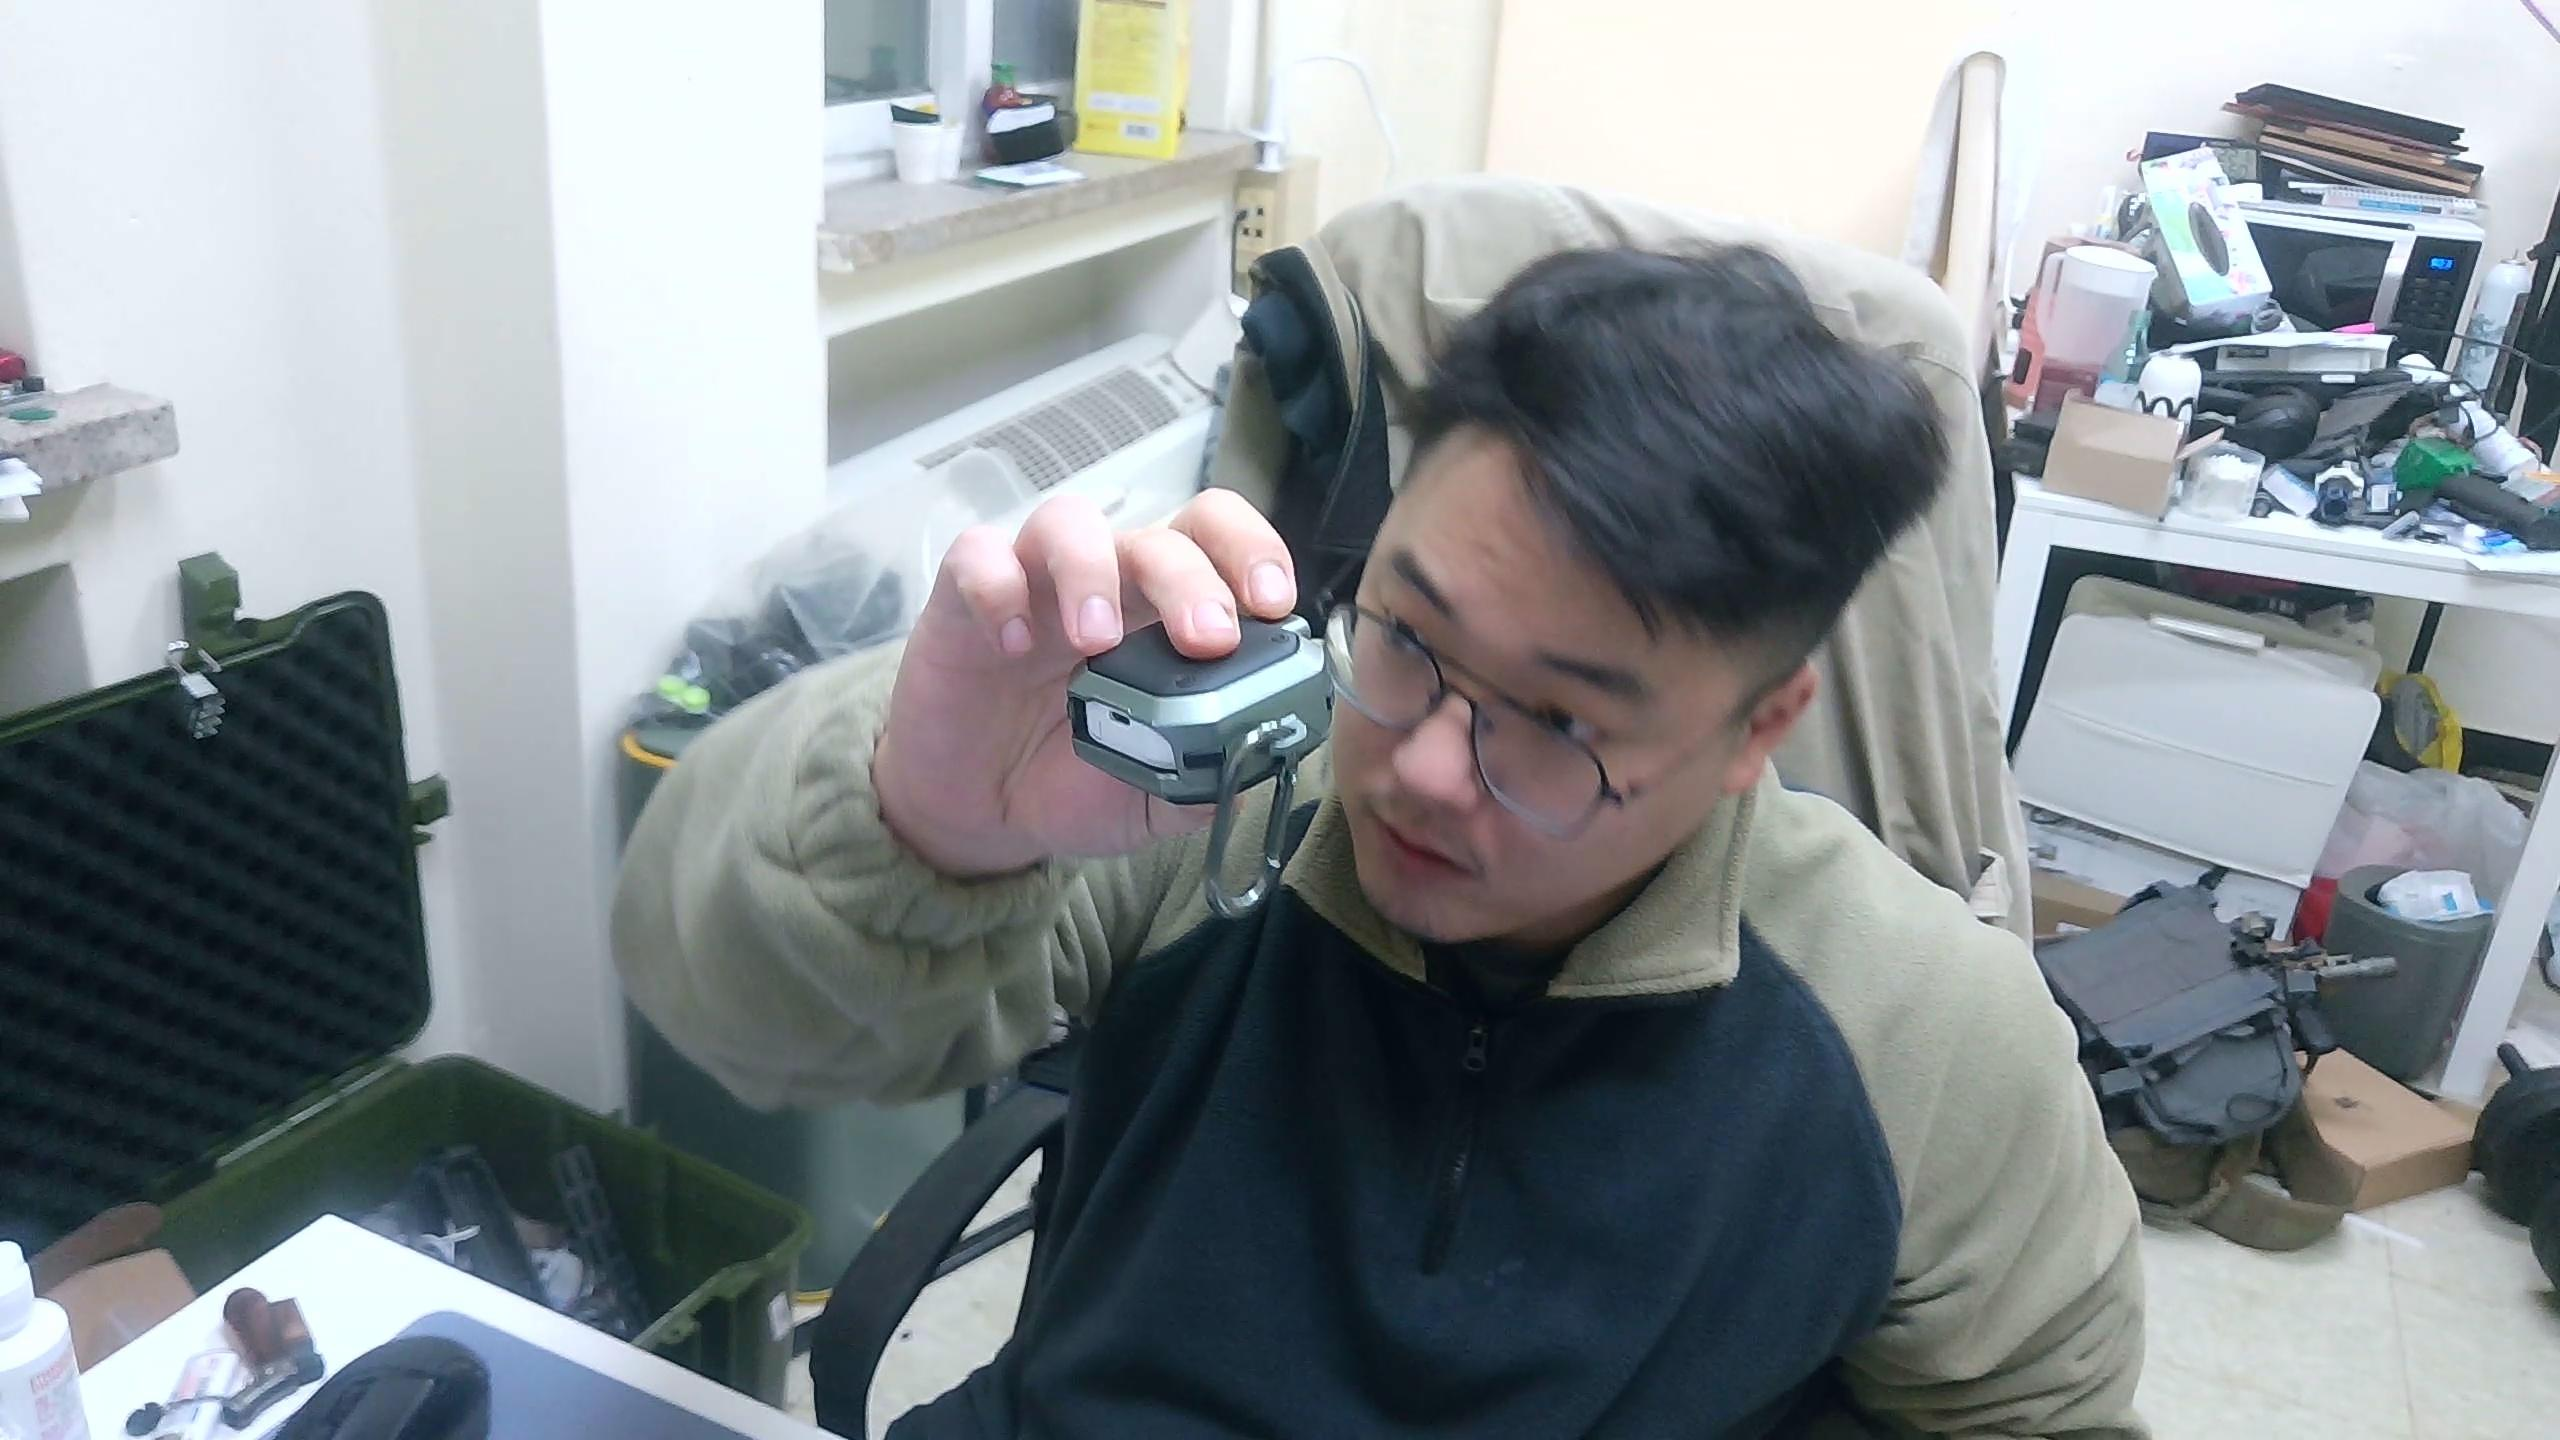blue_pliers: (1064, 600, 1338, 923)
